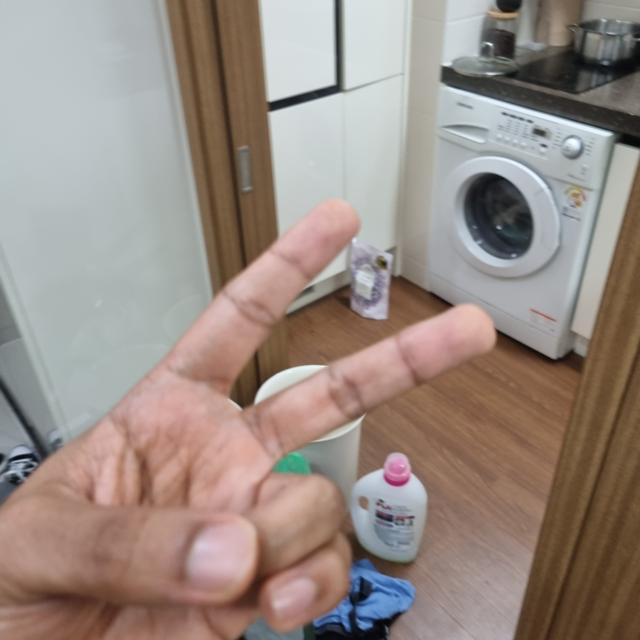Scissors: (3, 205, 489, 639)
